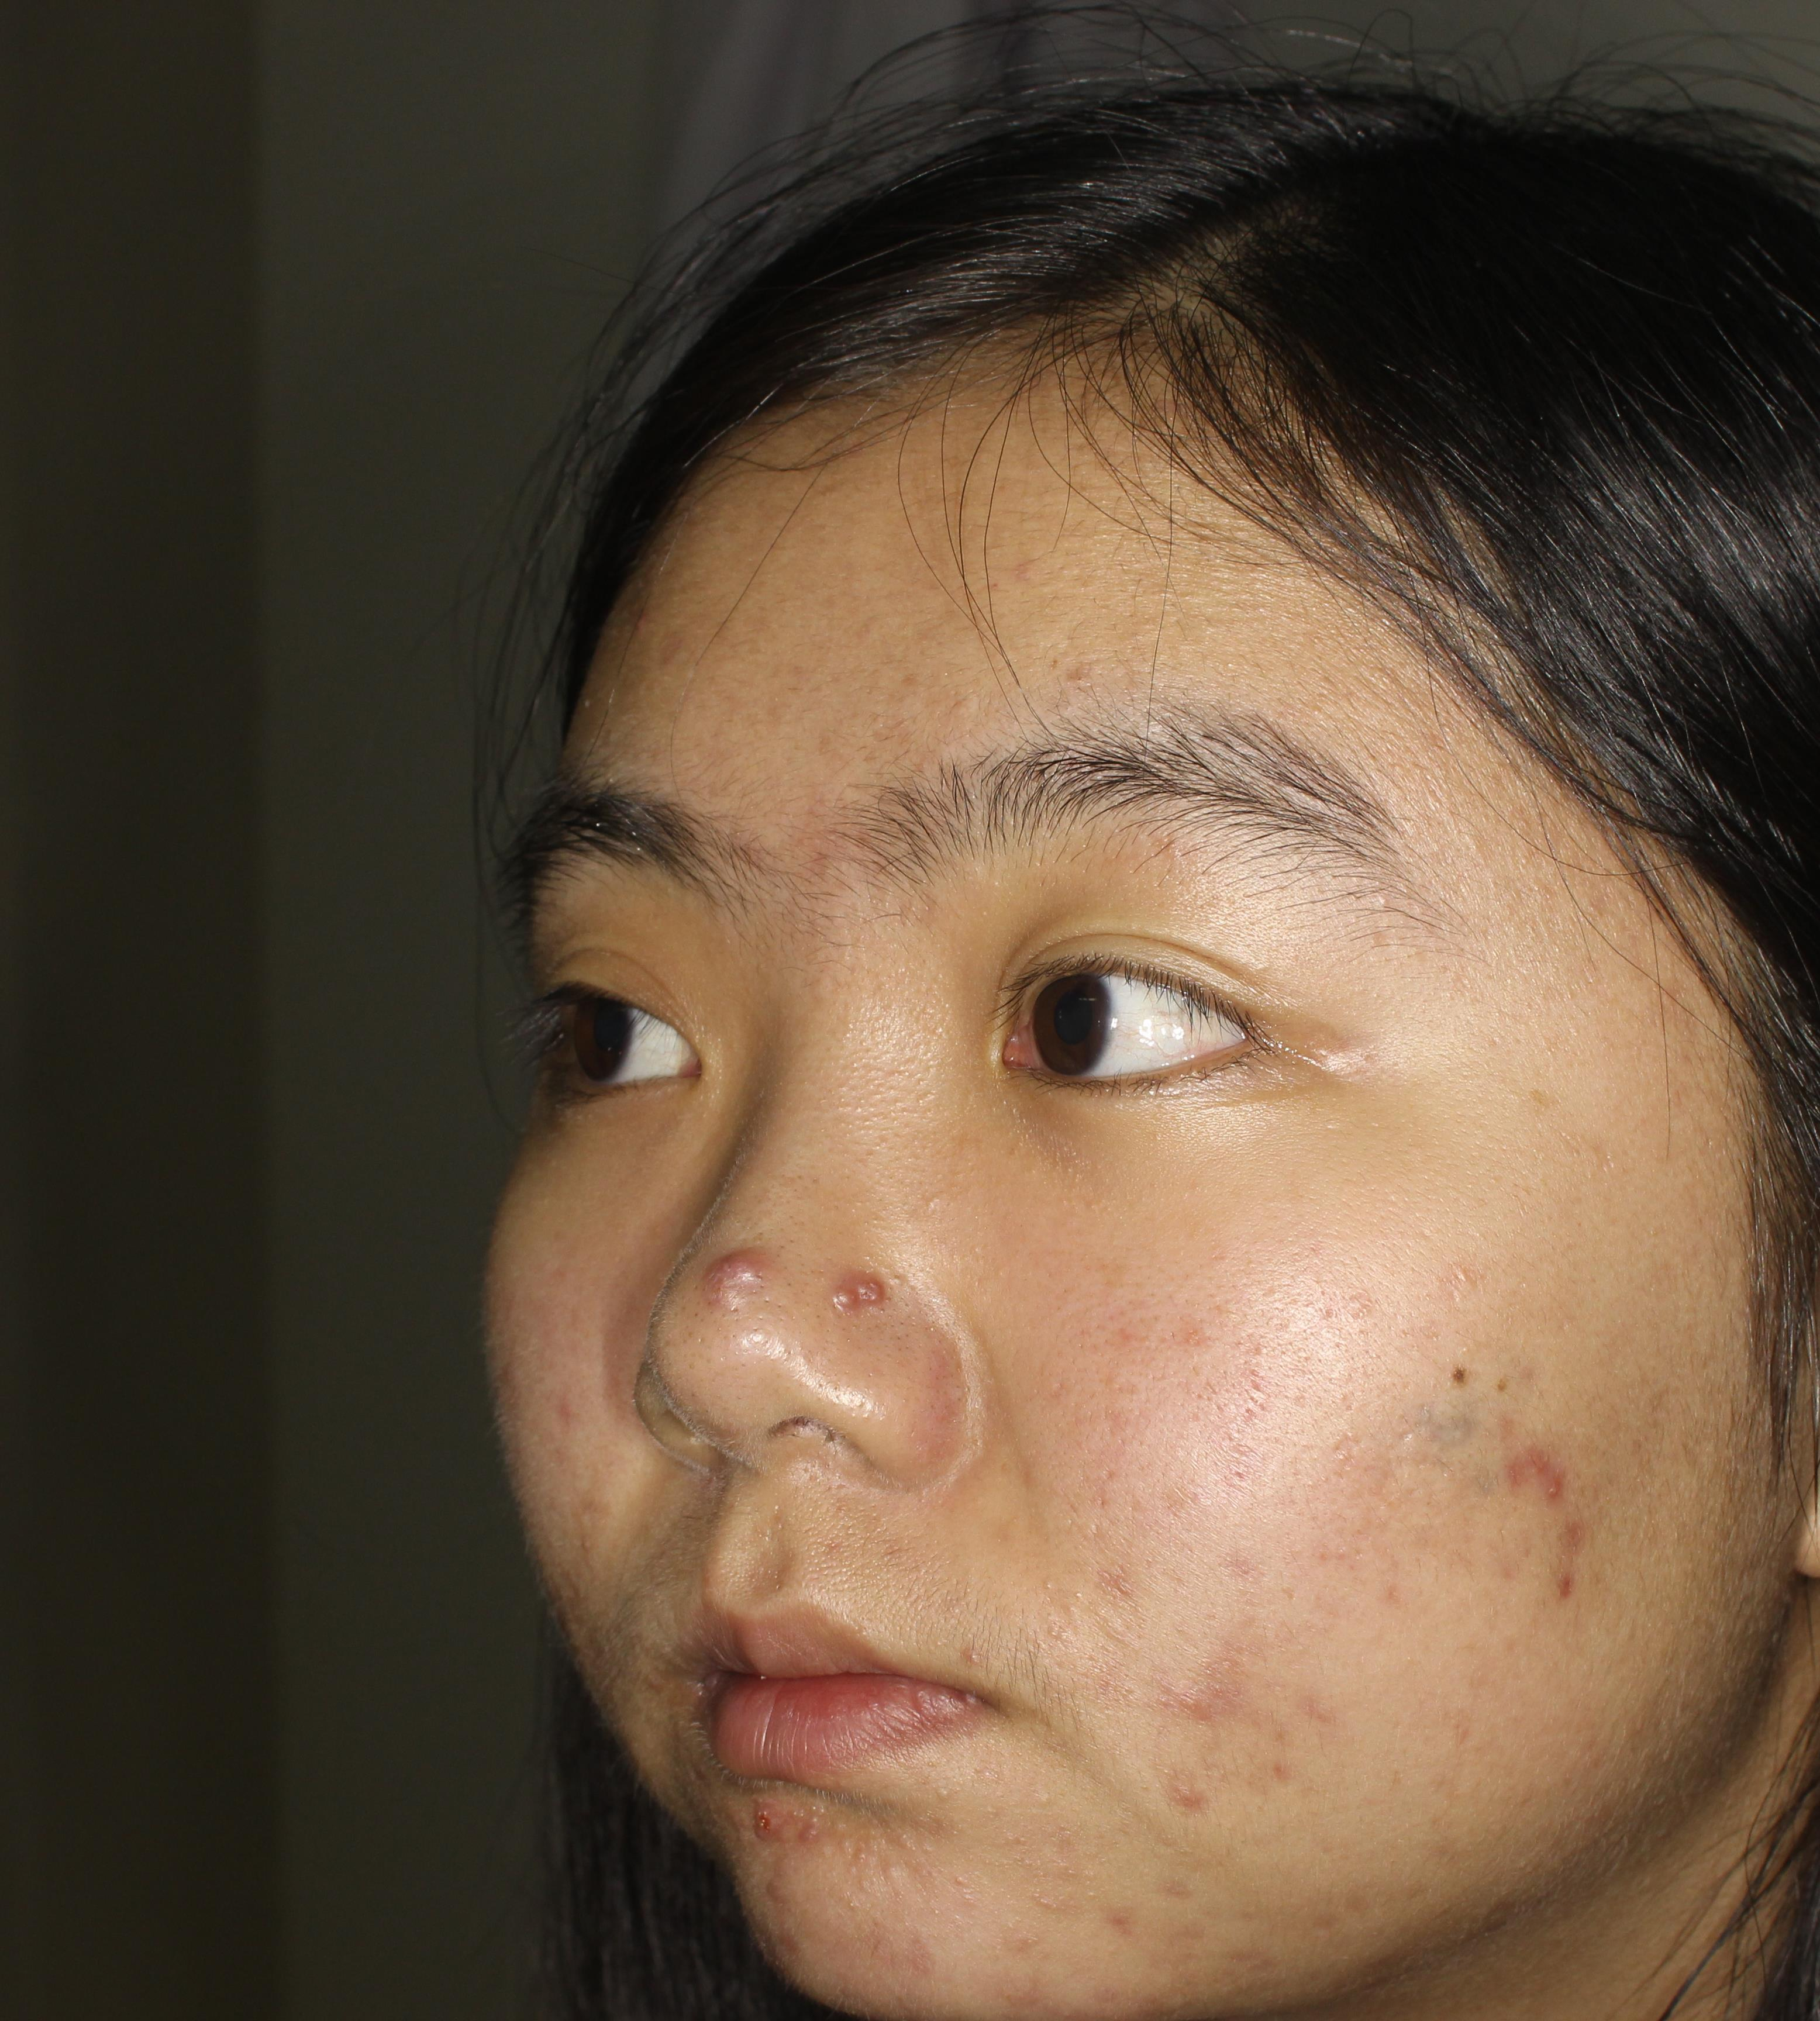fore: (664, 1231, 794, 1347), (1507, 1508, 1632, 1594), (1161, 1652, 1265, 1742), (1484, 1415, 1597, 1496), (727, 1773, 826, 1858), (1131, 1745, 1179, 1858)
